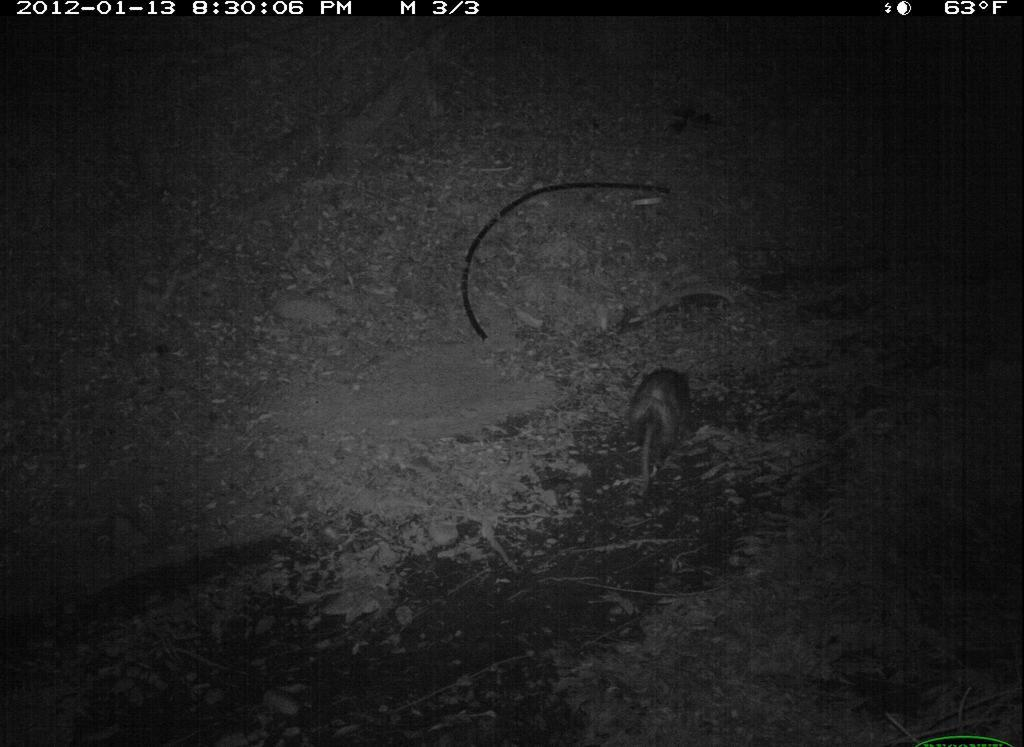opossum: (603, 333, 715, 502)
